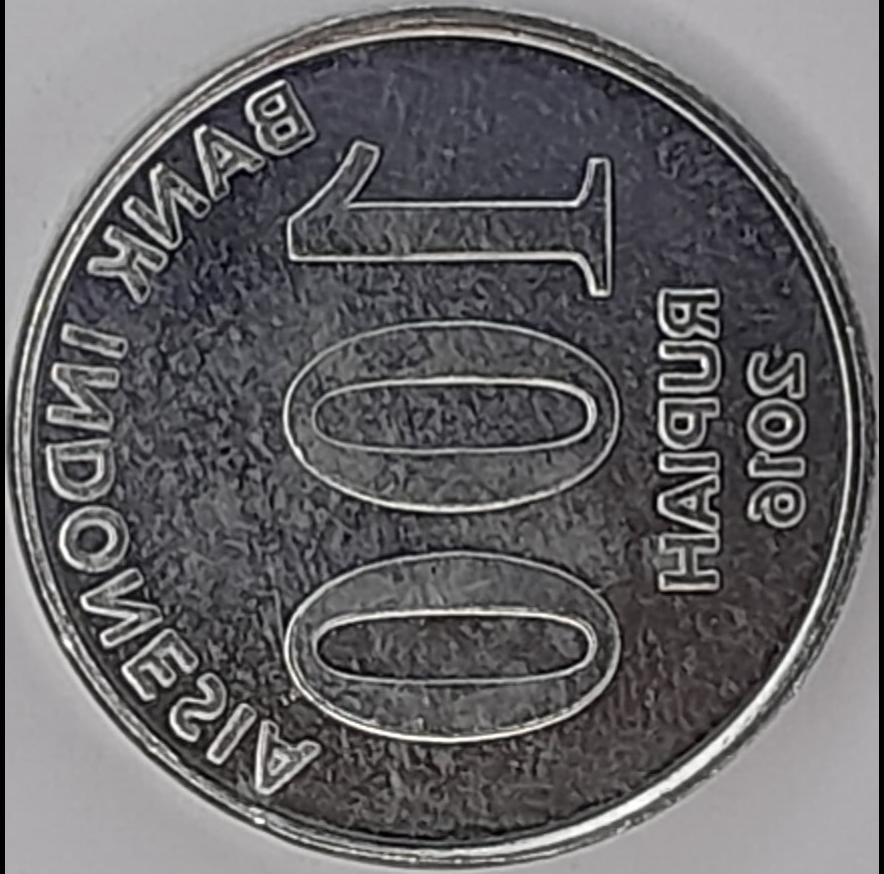coin_100_e2016: (5, 0, 879, 871)
